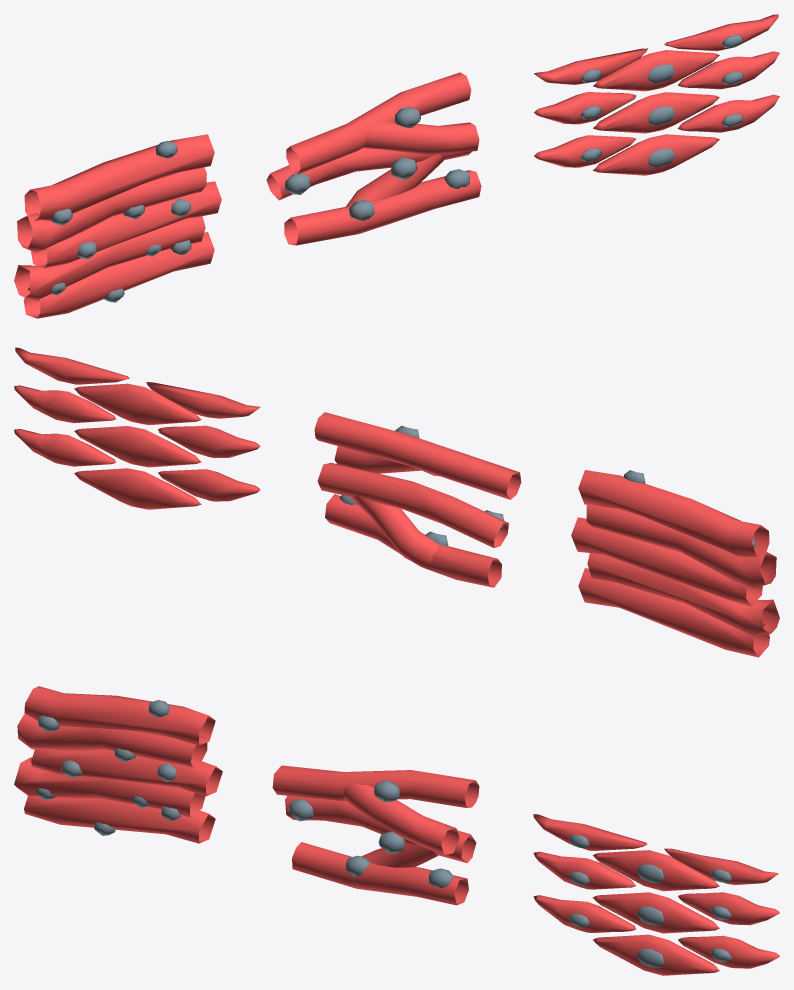
The model's file is muschi.glb.
The picture shows the model from 3 angles, top to bottom: view 1: azimuth 30°, elevation 25°; view 2: azimuth 150°, elevation 25°; view 3: azimuth 330°, elevation 25°; orthographic projection.
Parts seen in each view (by area): view 1: Skeletal Muscle, Smooth Muscles, Cardiac Muscles; view 2: Skeletal Muscle, Smooth Muscles, Cardiac Muscles; view 3: Skeletal Muscle, Smooth Muscles, Cardiac Muscles.
Part boxes in pixels (x1,y1,x2,y2): Skeletal Muscle: (14, 134, 221, 318); Smooth Muscles: (534, 14, 779, 175); Cardiac Muscles: (266, 72, 481, 245); Skeletal Muscle: (571, 470, 779, 657); Smooth Muscles: (14, 347, 260, 509); Cardiac Muscles: (314, 412, 521, 587); Skeletal Muscle: (14, 686, 222, 843); Smooth Muscles: (533, 814, 779, 975); Cardiac Muscles: (272, 765, 479, 905).
Size of the model in its own units: 8.37 by 1.63 by 0.6893.
